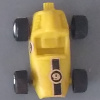carro: (15, 3, 87, 97)
